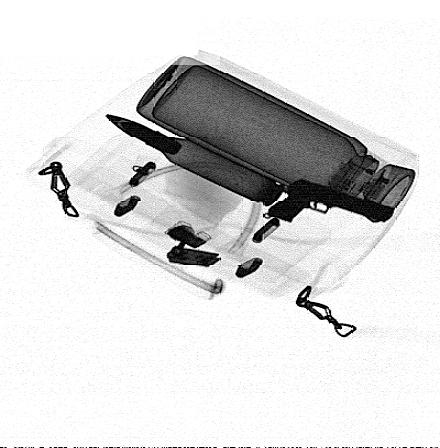Bullet: (105, 115, 283, 207)
Gun: (267, 179, 394, 225)
